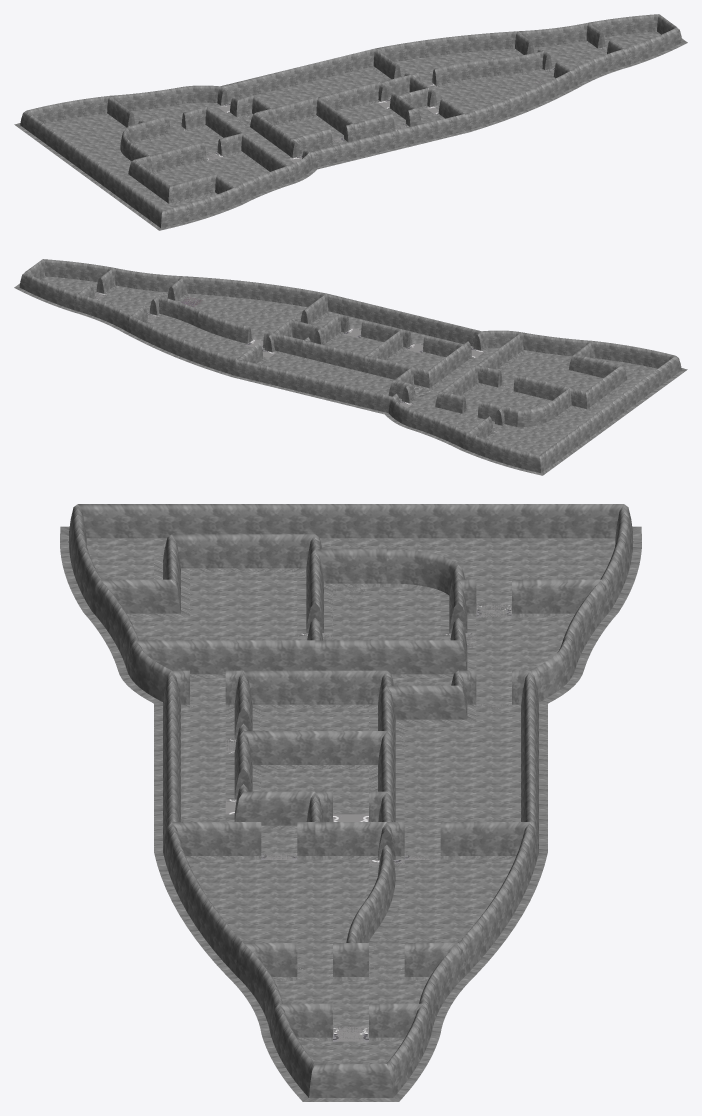
Rendered from level_5.gltf.
3 views of the same model, one above another, from view 1: azimuth 30°, elevation 25°; view 2: azimuth 150°, elevation 25°; view 3: azimuth 270°, elevation 25° (orthographic). The views are drawn at different scales.
Visible parts, largest first — view 1: Mesh_22, Mesh_46, Mesh_2, Mesh_12, Mesh_38, Mesh_36, Mesh_11, Mesh_24, Mesh_3, Mesh_13, Mesh_4, Mesh_16 (+40 smaller); view 2: Mesh_12, Mesh_38, Mesh_46, Mesh_22, Mesh_24, Mesh_3, Mesh_2, Mesh_36, Mesh_11, Mesh_13, Mesh_44, Mesh_4 (+43 smaller); view 3: Mesh_46, Mesh_12, Mesh_11, Mesh_13, Mesh_2, Mesh_3, Mesh_5, Mesh_4, Mesh_7, Mesh_54, Mesh_75, Mesh_14 (+51 smaller).
Part boxes in pixels (x1=…): Mesh_22: x1=310, y1=114, x2=467, y2=167; Mesh_46: x1=20, y1=111, x2=162, y2=227; Mesh_2: x1=44, y1=113, x2=130, y2=178; Mesh_12: x1=428, y1=69, x2=553, y2=113; Mesh_38: x1=220, y1=48, x2=375, y2=101; Mesh_36: x1=375, y1=31, x2=516, y2=62; Mesh_11: x1=225, y1=66, x2=387, y2=108; Mesh_24: x1=465, y1=71, x2=574, y2=130; Mesh_3: x1=155, y1=153, x2=266, y2=187; Mesh_13: x1=394, y1=48, x2=519, y2=85; Mesh_4: x1=135, y1=127, x2=219, y2=156; Mesh_16: x1=161, y1=187, x2=237, y2=228; Mesh_12: x1=180, y1=293, x2=307, y2=340; Mesh_38: x1=234, y1=359, x2=391, y2=412; Mesh_46: x1=539, y1=356, x2=681, y2=472; Mesh_22: x1=326, y1=293, x2=481, y2=346; Mesh_24: x1=185, y1=276, x2=326, y2=307; Mesh_3: x1=500, y1=350, x2=600, y2=391; Mesh_2: x1=488, y1=408, x2=600, y2=455; Mesh_36: x1=127, y1=316, x2=236, y2=375; Mesh_11: x1=261, y1=350, x2=392, y2=394; Mesh_13: x1=148, y1=314, x2=264, y2=358; Mesh_44: x1=464, y1=432, x2=540, y2=473; Mesh_4: x1=464, y1=385, x2=549, y2=415; Mesh_46: x1=78, y1=504, x2=623, y2=538; Mesh_12: x1=186, y1=852, x2=379, y2=973; Mesh_11: x1=404, y1=701, x2=520, y2=852; Mesh_13: x1=369, y1=852, x2=515, y2=973; Mesh_2: x1=320, y1=538, x2=615, y2=609; Mesh_3: x1=129, y1=572, x2=307, y2=640; Mesh_5: x1=465, y1=610, x2=572, y2=700; Mesh_4: x1=322, y1=587, x2=451, y2=640; Mesh_7: x1=181, y1=701, x2=236, y2=821; Mesh_54: x1=136, y1=640, x2=315, y2=674; Mesh_75: x1=315, y1=640, x2=466, y2=674; Mesh_14: x1=274, y1=973, x2=427, y2=1033.
Size of the model in its own units: 61.77 by 1.55 by 26.43.
Materials: 5 (5 with a texture image).
